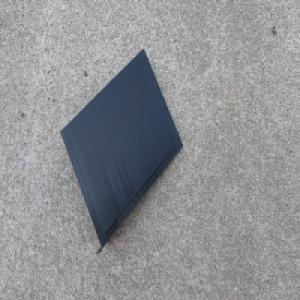PlasticPart: (59, 47, 183, 249)
